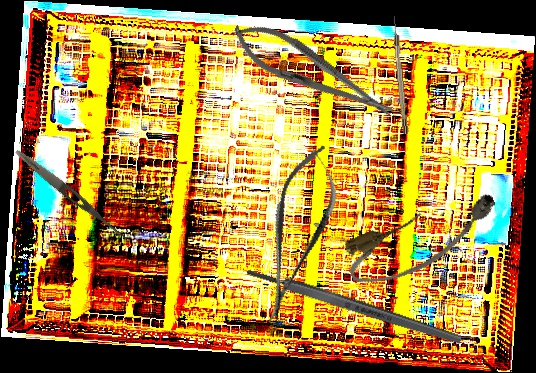Cannula: (338, 183, 508, 295)
Dressing Forceps: (12, 146, 132, 244)
Hook Surgical: (391, 15, 409, 135)
Micro Scissor: (241, 137, 352, 331)
Needle Holder: (224, 11, 401, 133)
Scalpel Handle: (245, 264, 463, 348)
